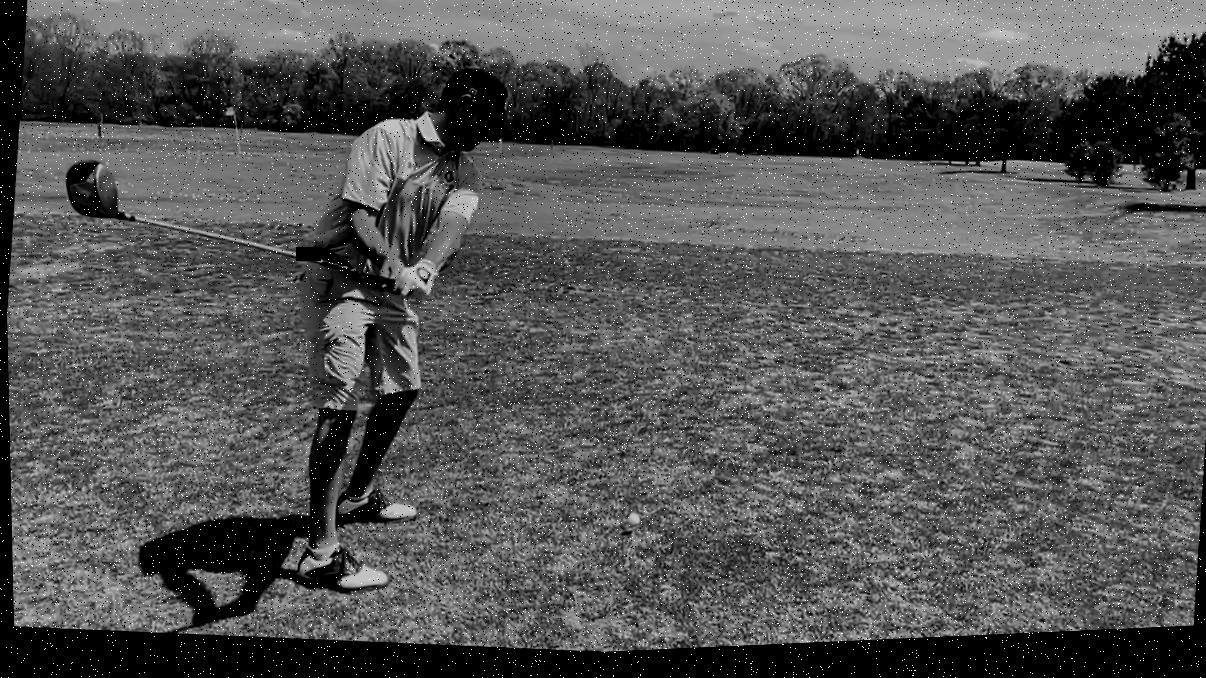ClubHead: (57, 154, 144, 231)
GolfBall: (622, 515, 639, 533)
